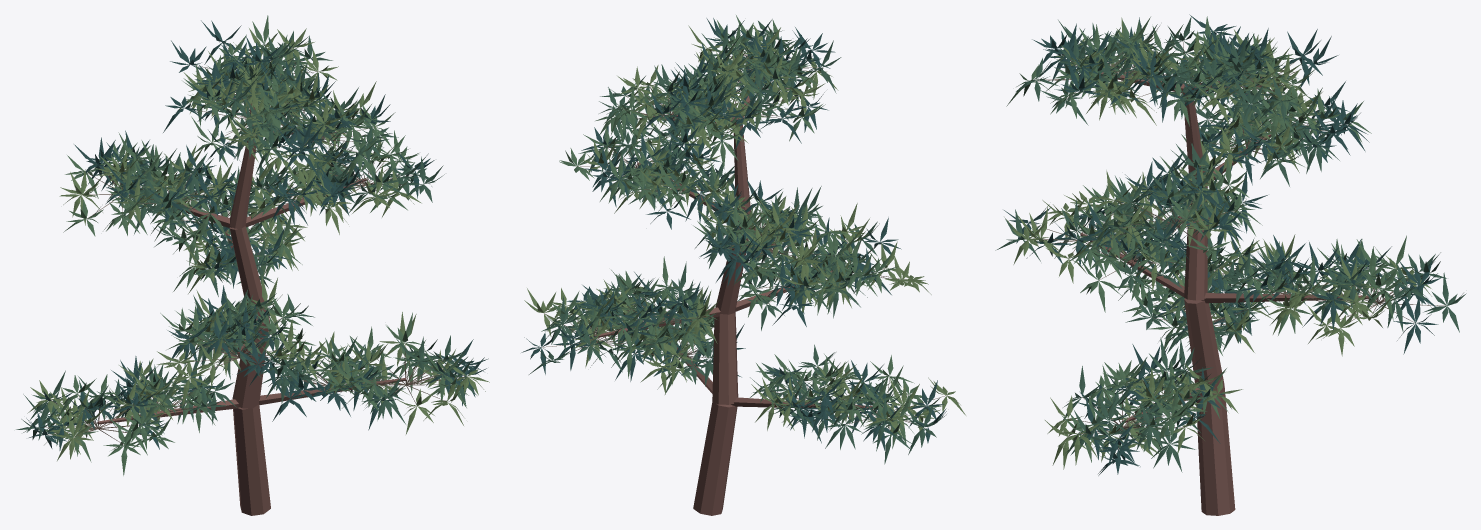
The model's file is ART_IrohaPine.glb.
3 renders of one model, left to right at view 1: azimuth 30°, elevation 25°; view 2: azimuth 150°, elevation 25°; view 3: azimuth 270°, elevation 25°, orthographic. The views are drawn at different scales.
Visible parts, largest first — view 1: ART_IrohaPine; view 2: ART_IrohaPine; view 3: ART_IrohaPine.
Boxes of the visible parts, x1,y1,x2,y2 form: ART_IrohaPine: (16, 15, 489, 515); ART_IrohaPine: (521, 15, 965, 515); ART_IrohaPine: (995, 14, 1466, 515).
Bounding box in the file's own units: 9.2 × 9.5 × 8.38.
